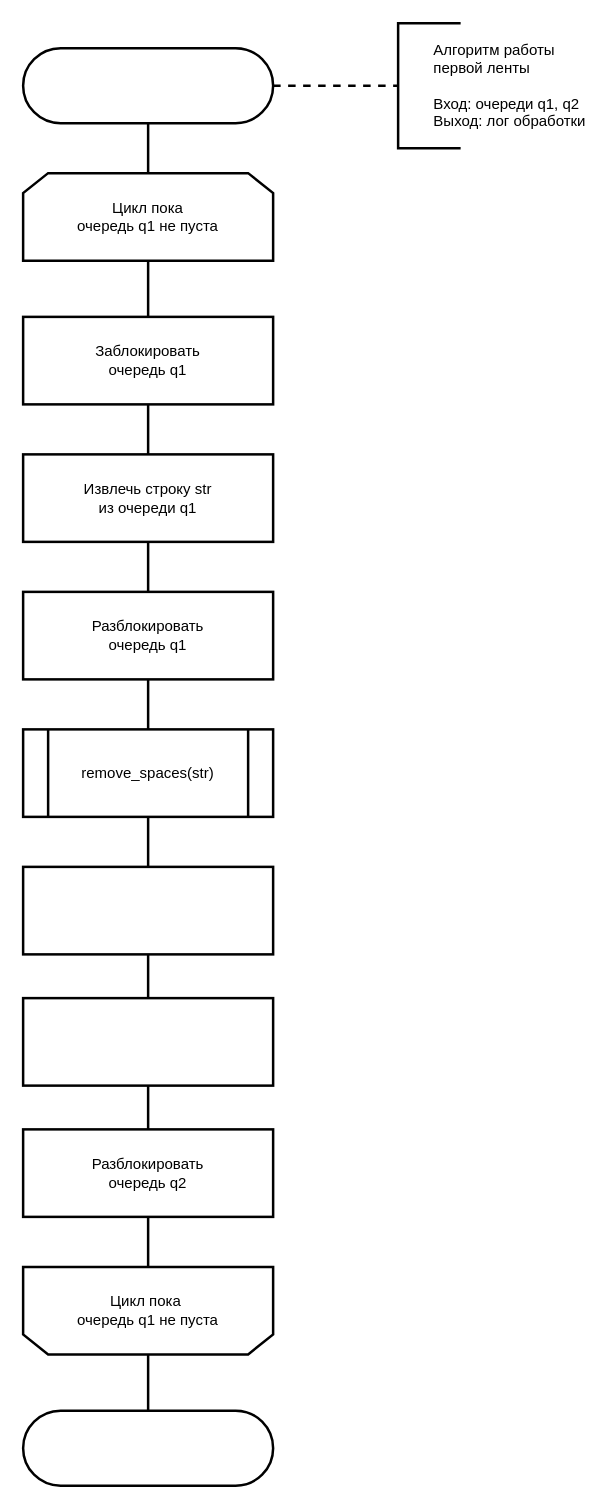
Some shapes in this 606 by 1508 pixel diagram are drawn without their labels. Here are the shapes that lost their labels. From the top down, the centre of each, then its label:
At point 147,85: "Начало".
At point 147,910: "Заблокировать очередь q2".
At point 147,1041: "Добавить str в очередь q2".
At point 147,1447: "Конец".
